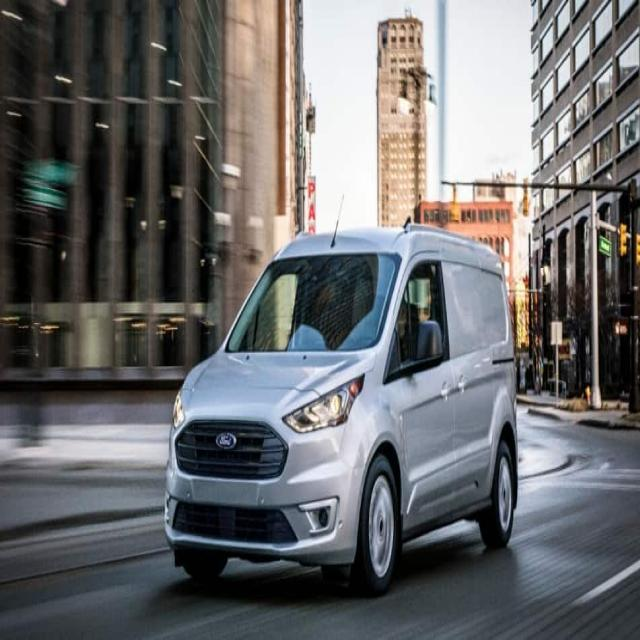suv: (618, 222, 628, 258)
truck: (162, 214, 519, 596)
